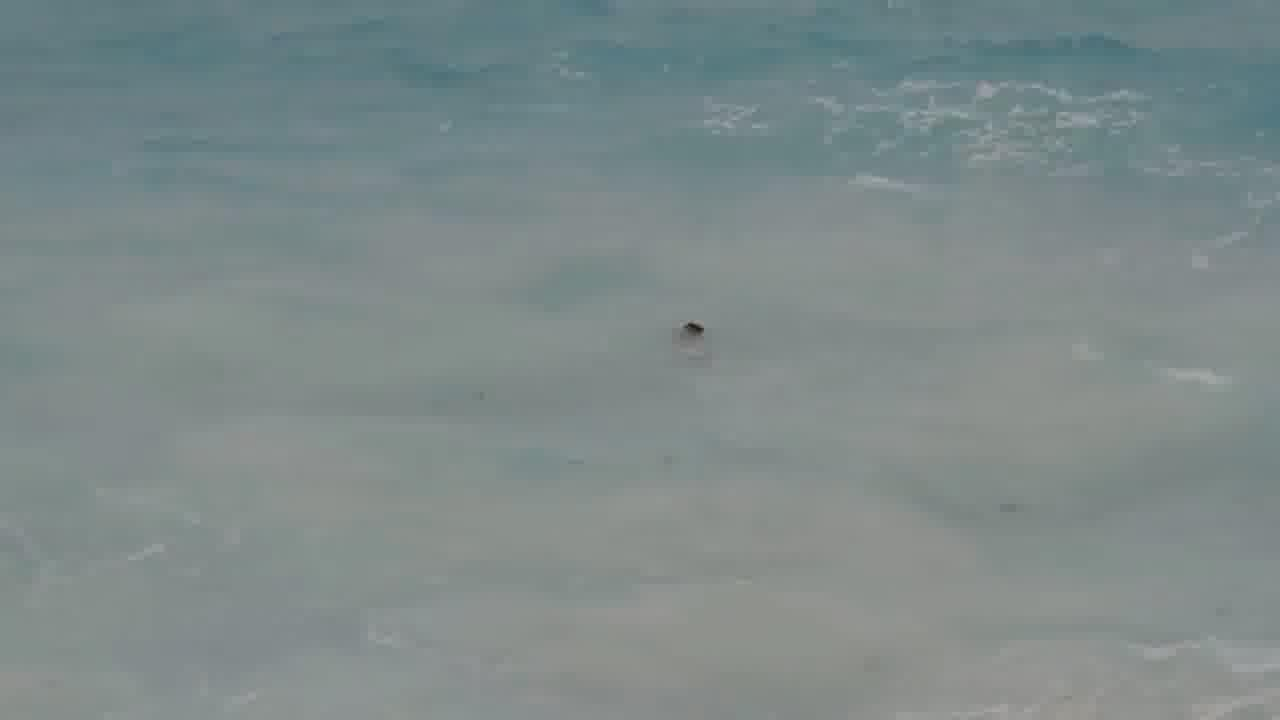human: (666, 302, 716, 361)
